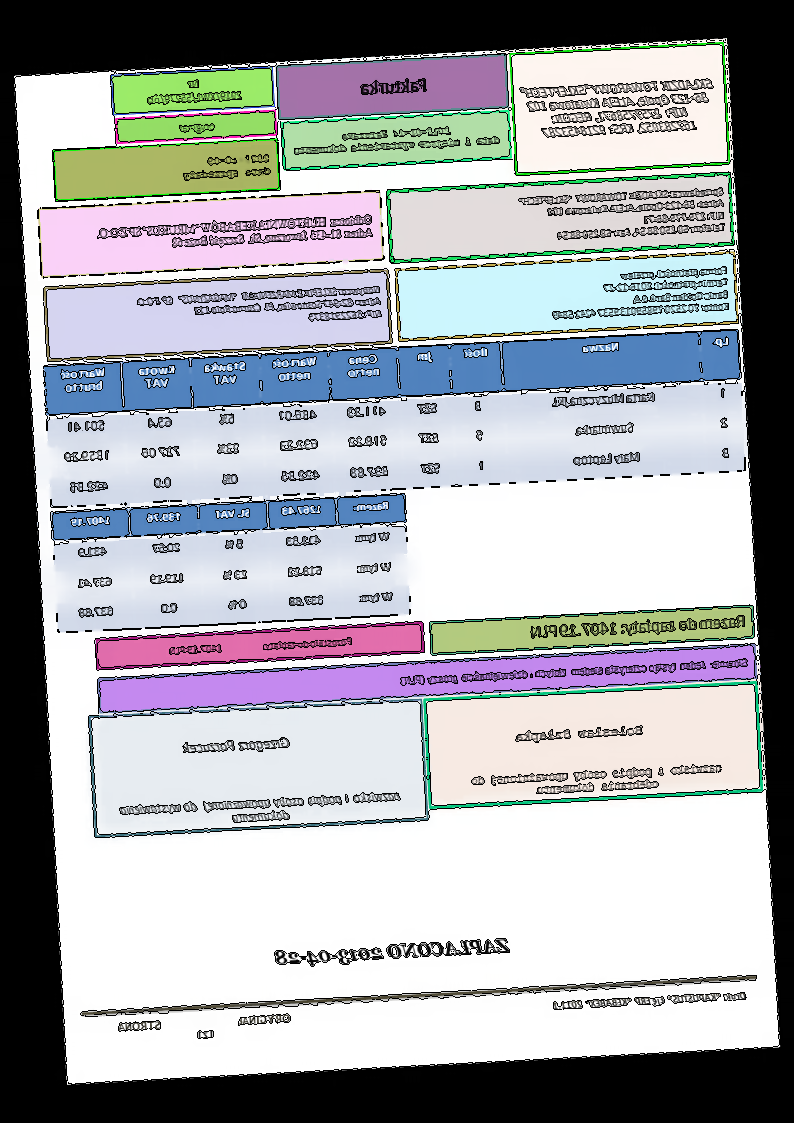Table: (43, 327, 747, 510), (49, 490, 412, 635)
TextBox: (516, 182, 728, 245), (517, 75, 718, 141), (133, 282, 384, 334), (95, 209, 377, 254), (118, 788, 403, 832), (398, 654, 751, 688), (549, 262, 733, 322), (468, 760, 726, 799), (272, 933, 514, 972), (291, 121, 502, 158), (529, 610, 749, 642), (114, 1009, 295, 1047), (551, 987, 749, 1013), (166, 633, 356, 659), (515, 720, 647, 747), (146, 73, 245, 108), (179, 151, 274, 184), (180, 733, 292, 756), (358, 74, 431, 98), (177, 120, 218, 135)
